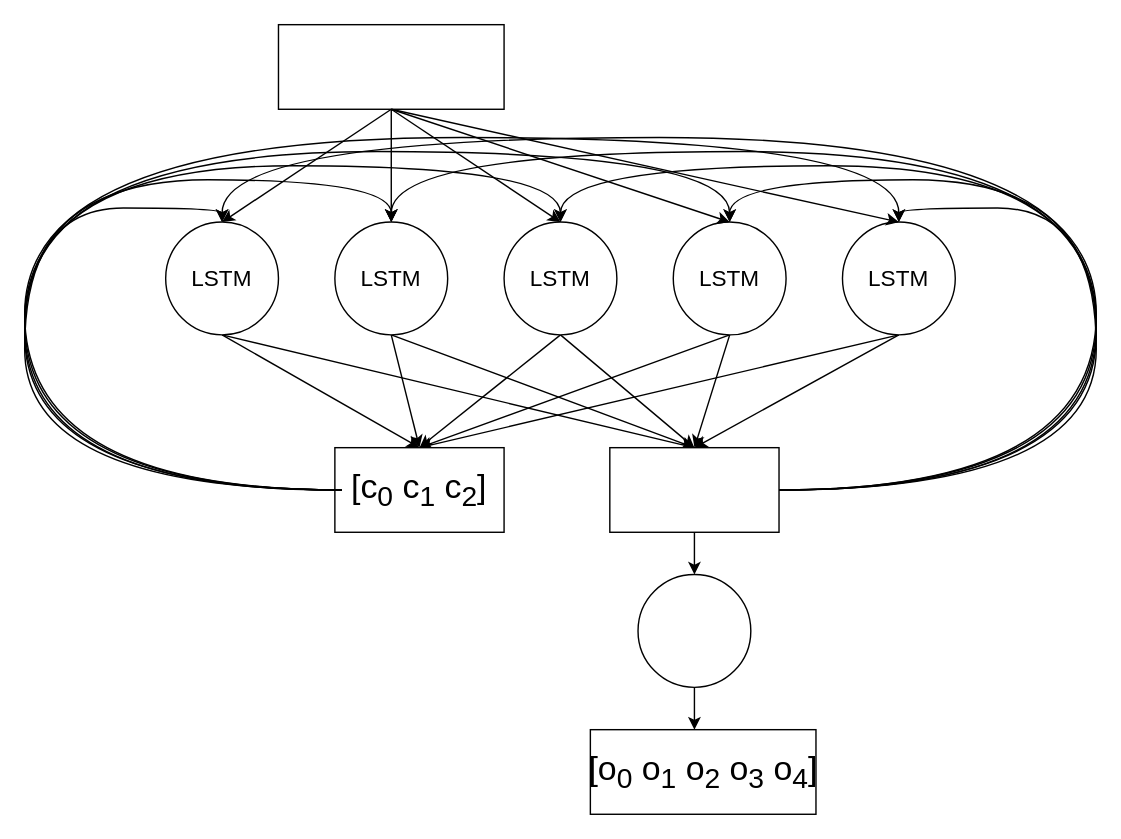
Some shapes in this 1121 by 839 pixel diagram are drawn without their labels. The centre of each missing label's shape, as x and y in pixels:
[h 0 h 1 h 2 ]: (693,489)
[x 0 x 1 x 2 x 3 x 4 ]: (390,66)
FC: (694,630)
